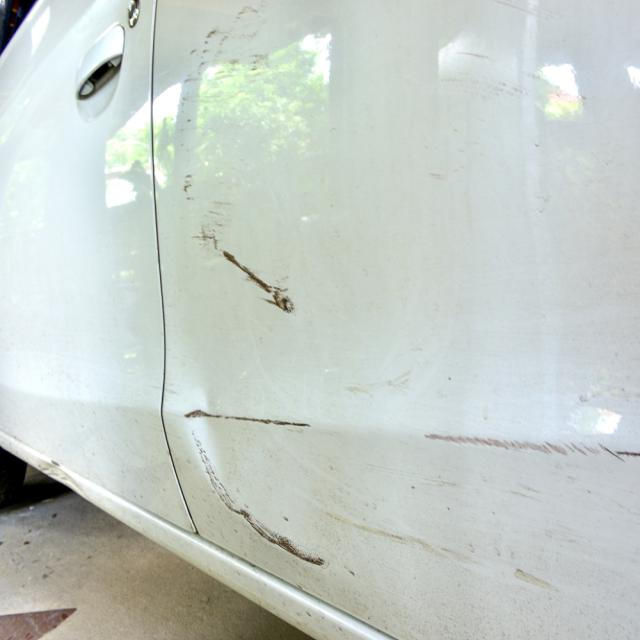Cabossage: (182, 371, 231, 498)
Rayure: (320, 503, 554, 608), (194, 437, 328, 576), (437, 37, 598, 144), (419, 409, 640, 477), (176, 222, 301, 335), (178, 0, 282, 134), (178, 397, 321, 449), (174, 164, 237, 226), (337, 369, 442, 402)
